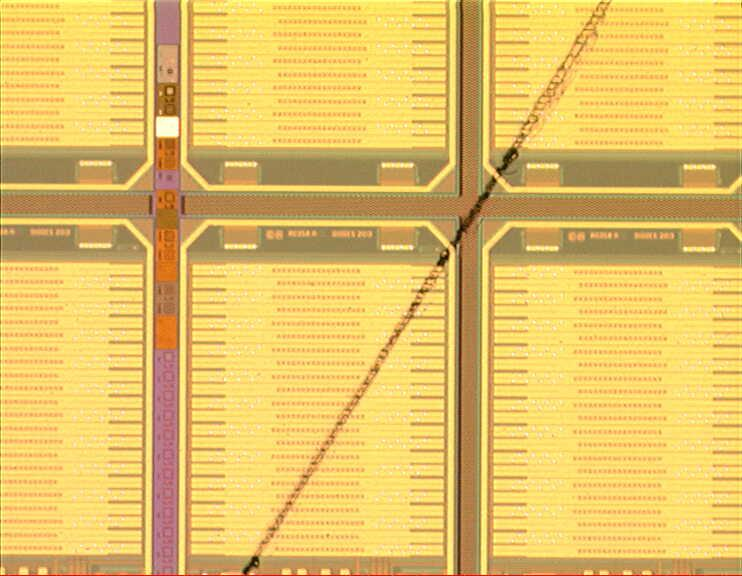SCRATCH: (231, 1, 622, 576)
